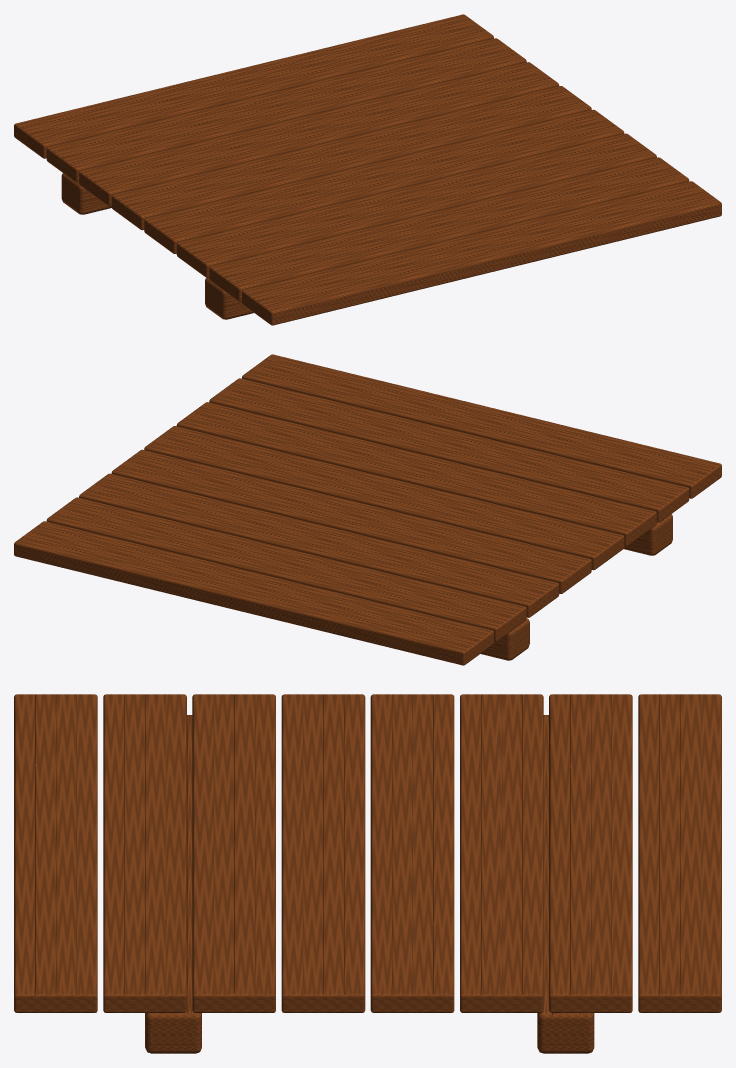
File: witch-cottage-and-apothecary-beamed-ceiling-slab-48dbb1bf__32437.glb
The picture shows the model from 3 angles, top to bottom: view 1: azimuth 30°, elevation 25°; view 2: azimuth 150°, elevation 25°; view 3: azimuth 270°, elevation 25°; orthographic projection. The views are drawn at different scales.
Visible parts, largest first — view 1: beamed-ceiling-slab; view 2: beamed-ceiling-slab; view 3: beamed-ceiling-slab.
Part boxes in pixels (x1,y1,x2,y2): beamed-ceiling-slab: (14, 14, 721, 325); beamed-ceiling-slab: (14, 354, 721, 665); beamed-ceiling-slab: (14, 694, 721, 1053).
Size of the model in its own units: 2 by 0.1899 by 1.99.
1 material, 1 textured.
